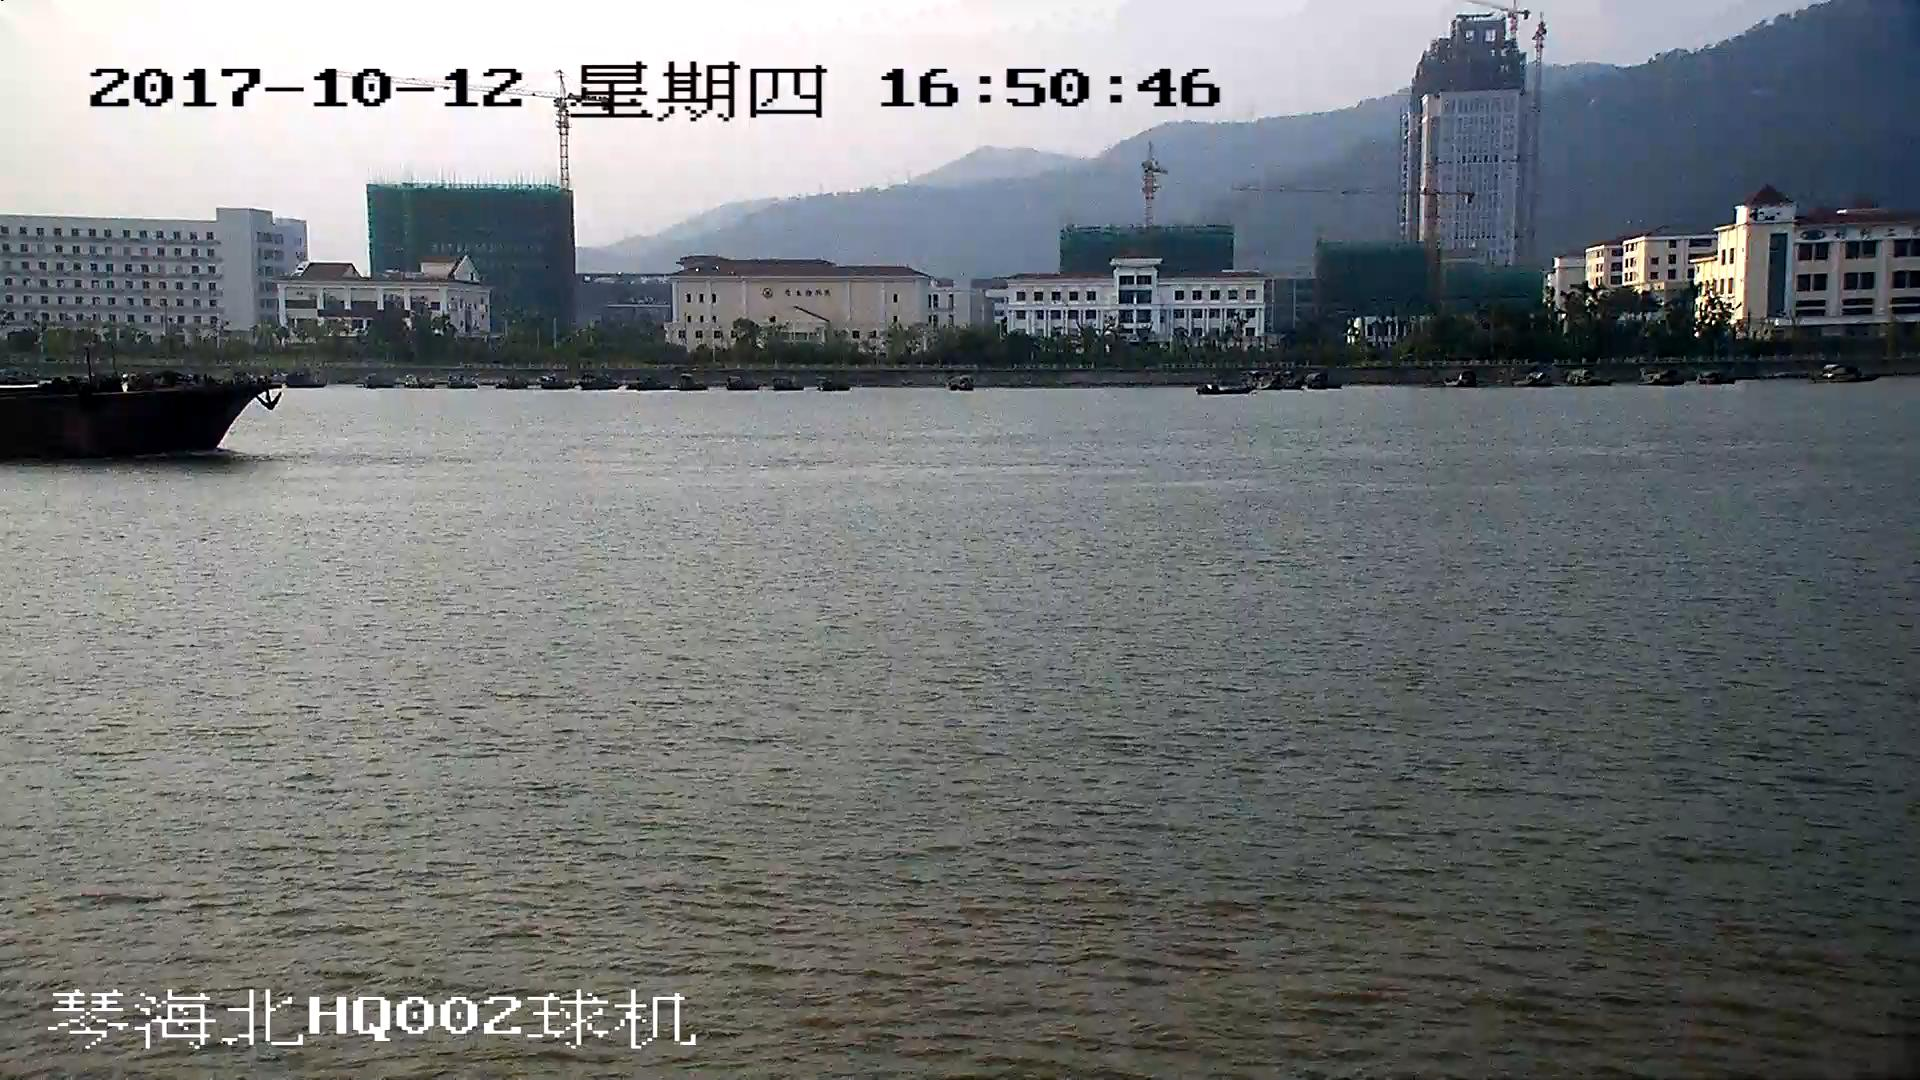bulk cargo carrier: (1, 382, 274, 457)
